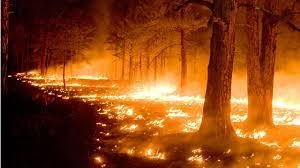fire: (17, 52, 208, 136), (271, 95, 300, 126), (230, 95, 248, 123)
